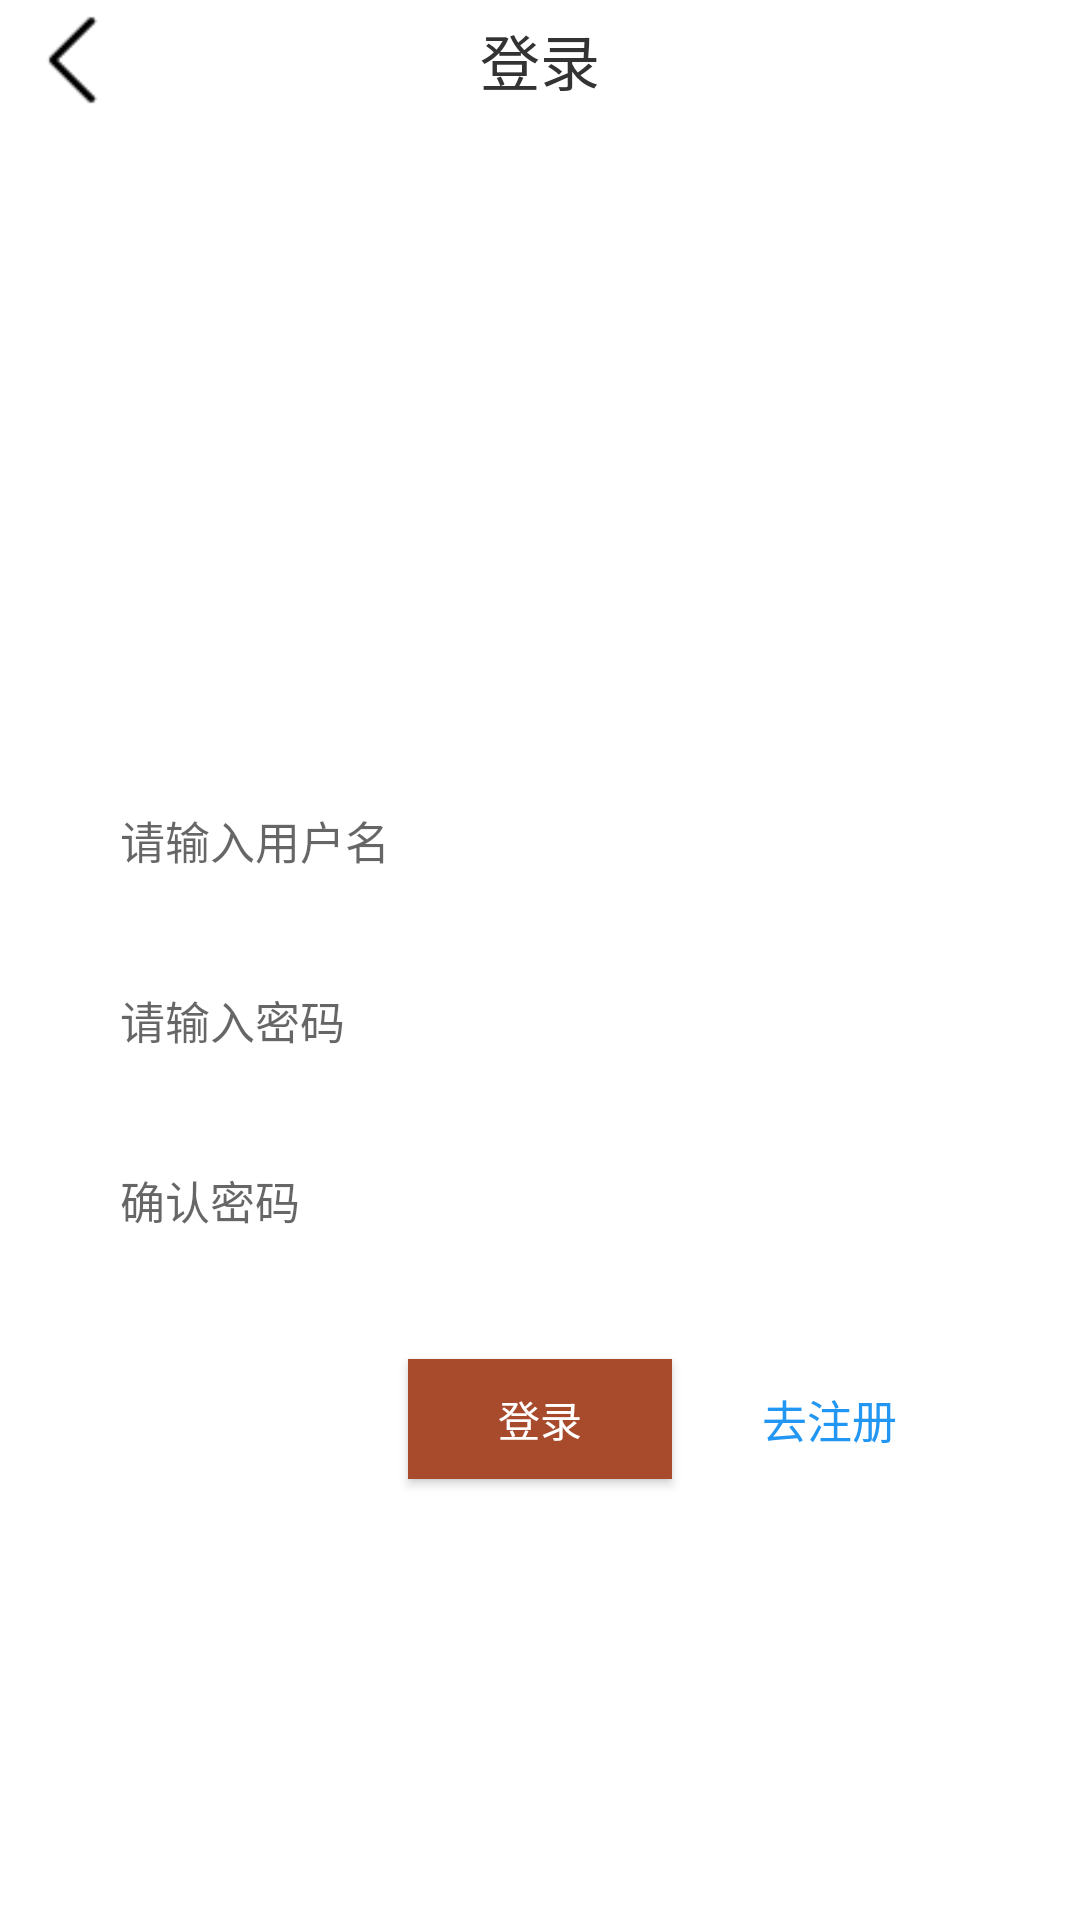

Screen size 1080*1920. Icon name, then its box in pixels as (x1=x1, y1=y1, x2=x2, y2=y2):
arrow: (x1=48, y1=17, x2=97, y2=103)
